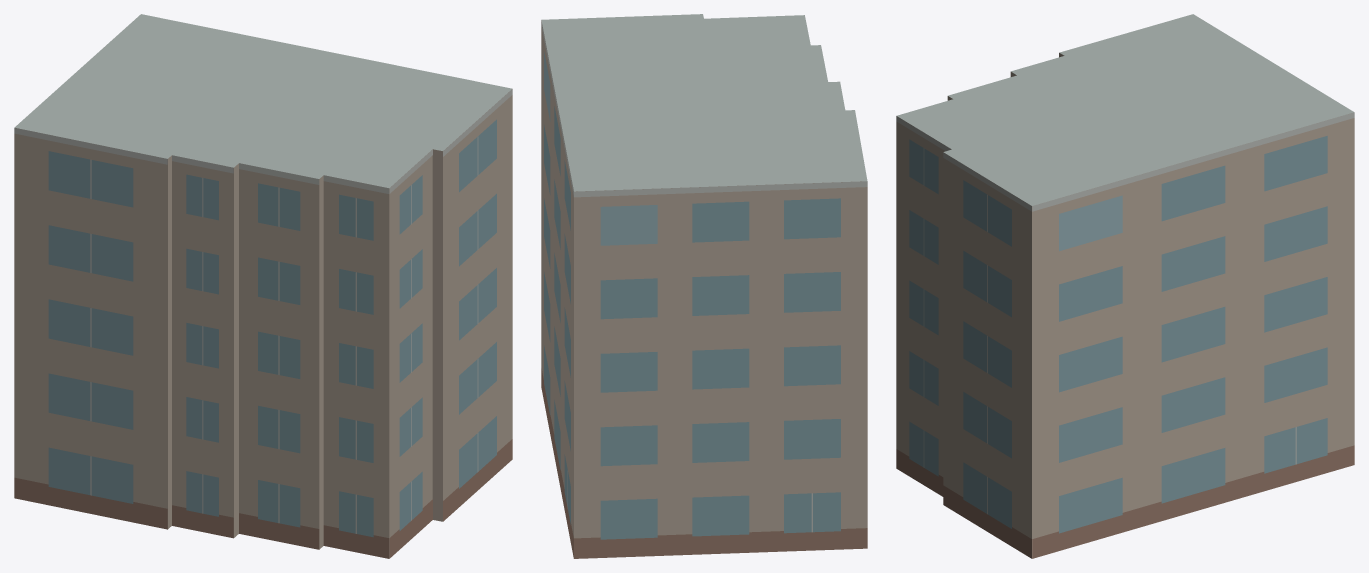
The model's file is survey-upis-33047595.glb.
The picture shows the model from 3 angles, left to right: view 1: azimuth 30°, elevation 25°; view 2: azimuth 150°, elevation 25°; view 3: azimuth 270°, elevation 25°; orthographic projection. The views are drawn at different scales.
Visible parts, largest first — view 1: survey-upis-33047595.tmp; view 2: survey-upis-33047595.tmp; view 3: survey-upis-33047595.tmp.
Part boxes in pixels (<box>): survey-upis-33047595.tmp: <box>14,14,512,558</box>; survey-upis-33047595.tmp: <box>541,14,867,558</box>; survey-upis-33047595.tmp: <box>896,14,1354,558</box>.
Size of the model in its own units: 17.82 by 15.25 by 17.96.
